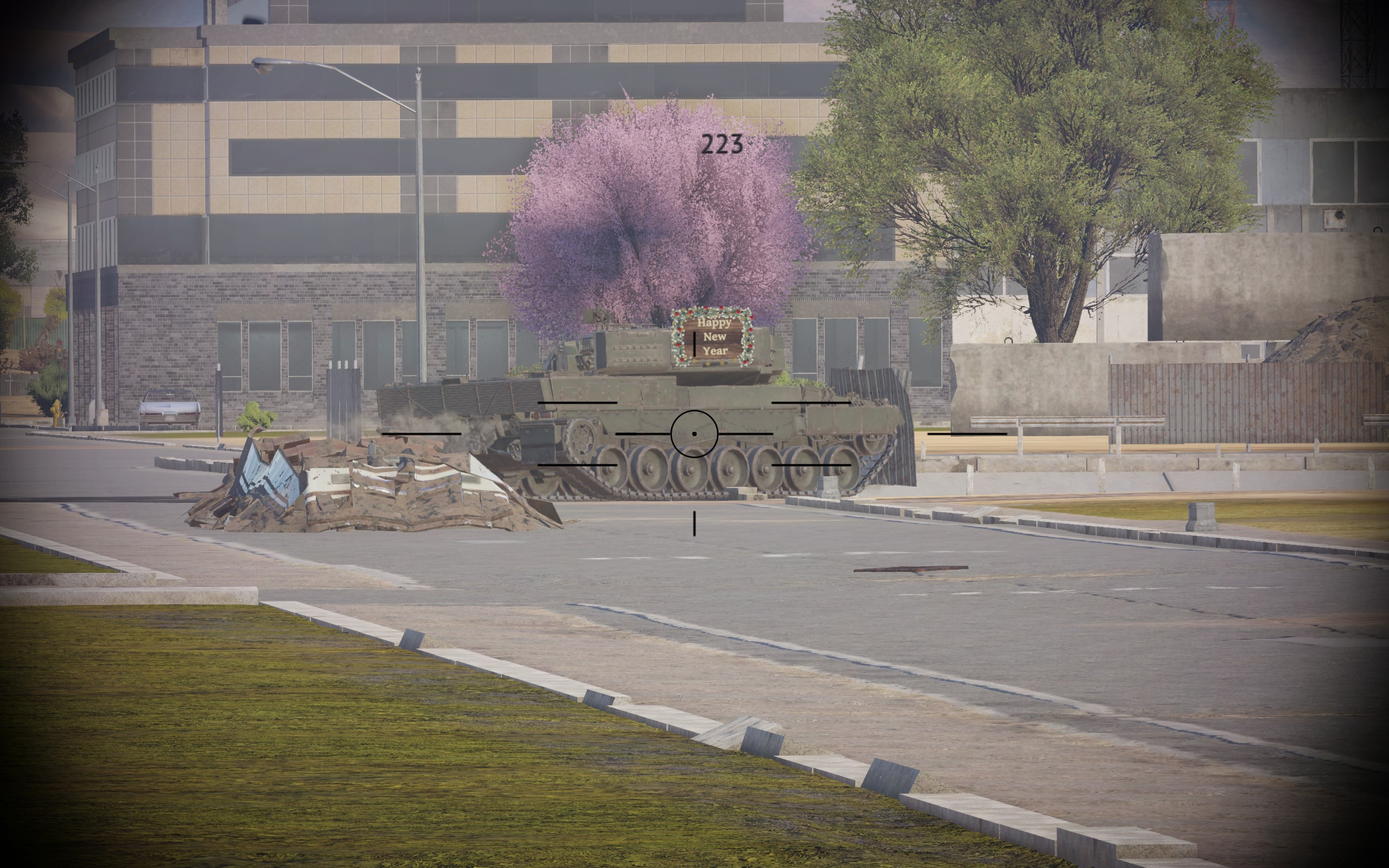leopard2: (372, 326, 902, 500)
